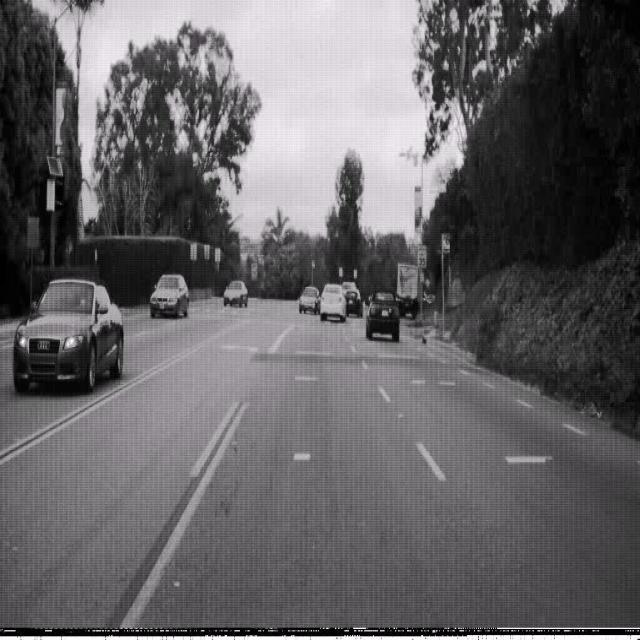speedLimit35: (416, 244, 427, 268)
